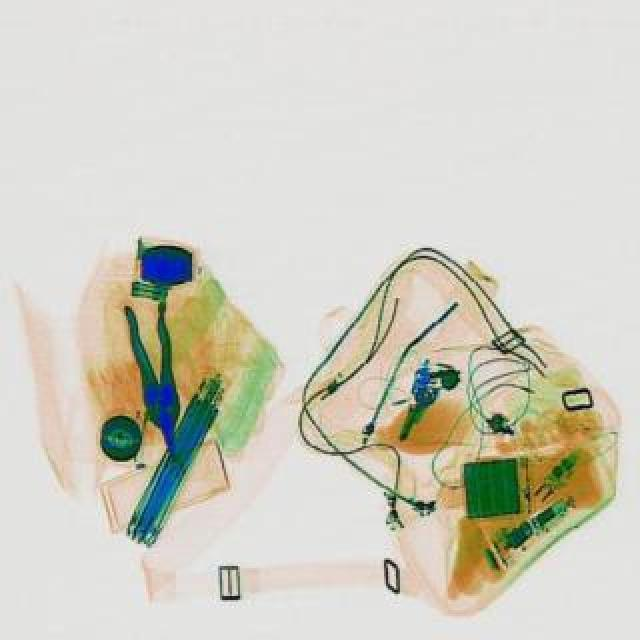wrench: (122, 296, 194, 460)
